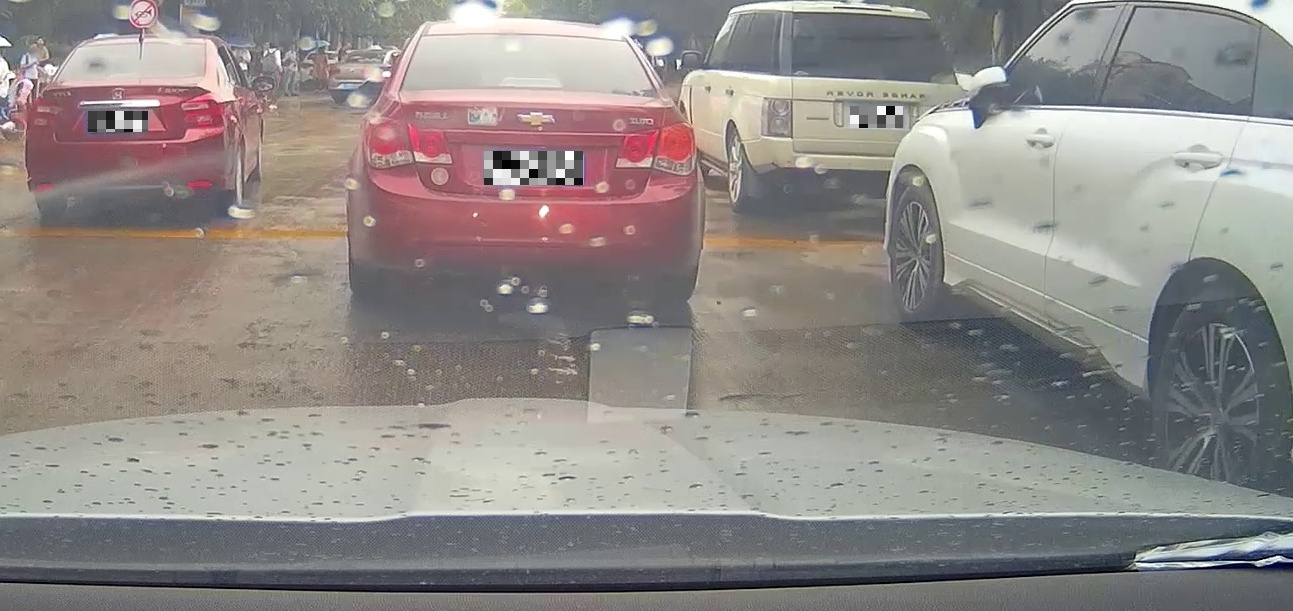L_light: (362, 116, 452, 168), (27, 98, 63, 127)
R_light: (614, 121, 698, 176), (181, 93, 224, 125)
T_light: (500, 76, 561, 90), (106, 73, 142, 80)
day-no: (346, 18, 707, 301), (24, 35, 227, 211)
plate_1: (88, 111, 148, 132)
plate_2: (484, 151, 583, 185)
plate_3: (850, 106, 903, 128)
